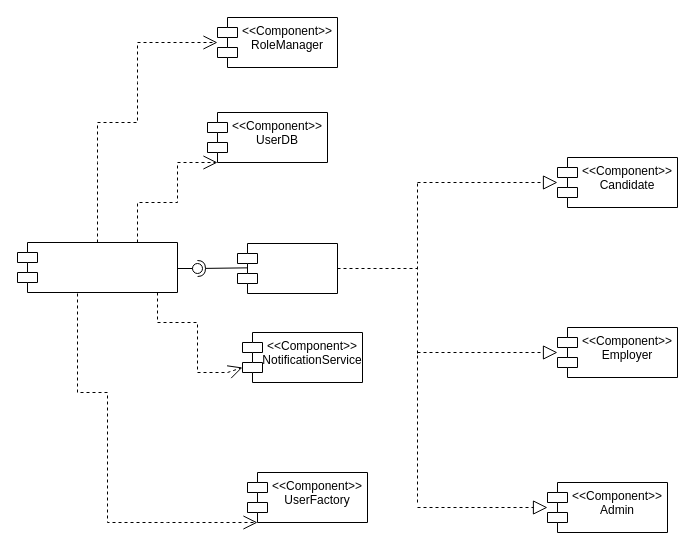
Some shapes in this 695 by 554 pixel diagram are drawn without their labels. Here are the shapes that lost their labels. From the top down, the centre of each, then its label:
At point (97, 267): "<<Component>> AuthenticationManager".
At point (287, 268): "UserInterface".
